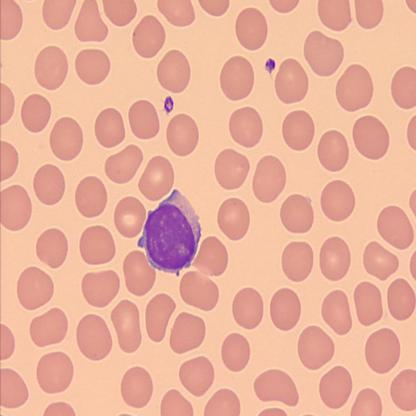Lymphocyte: (139, 188, 202, 275)
